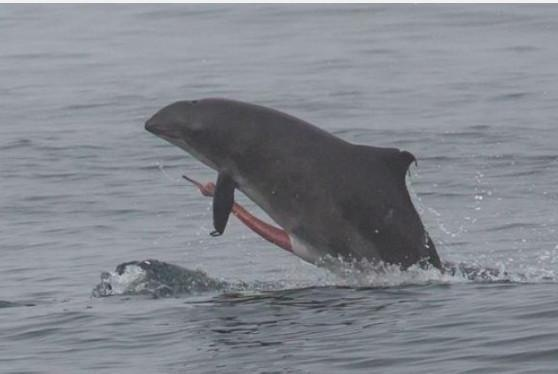fish: (139, 93, 459, 287)
